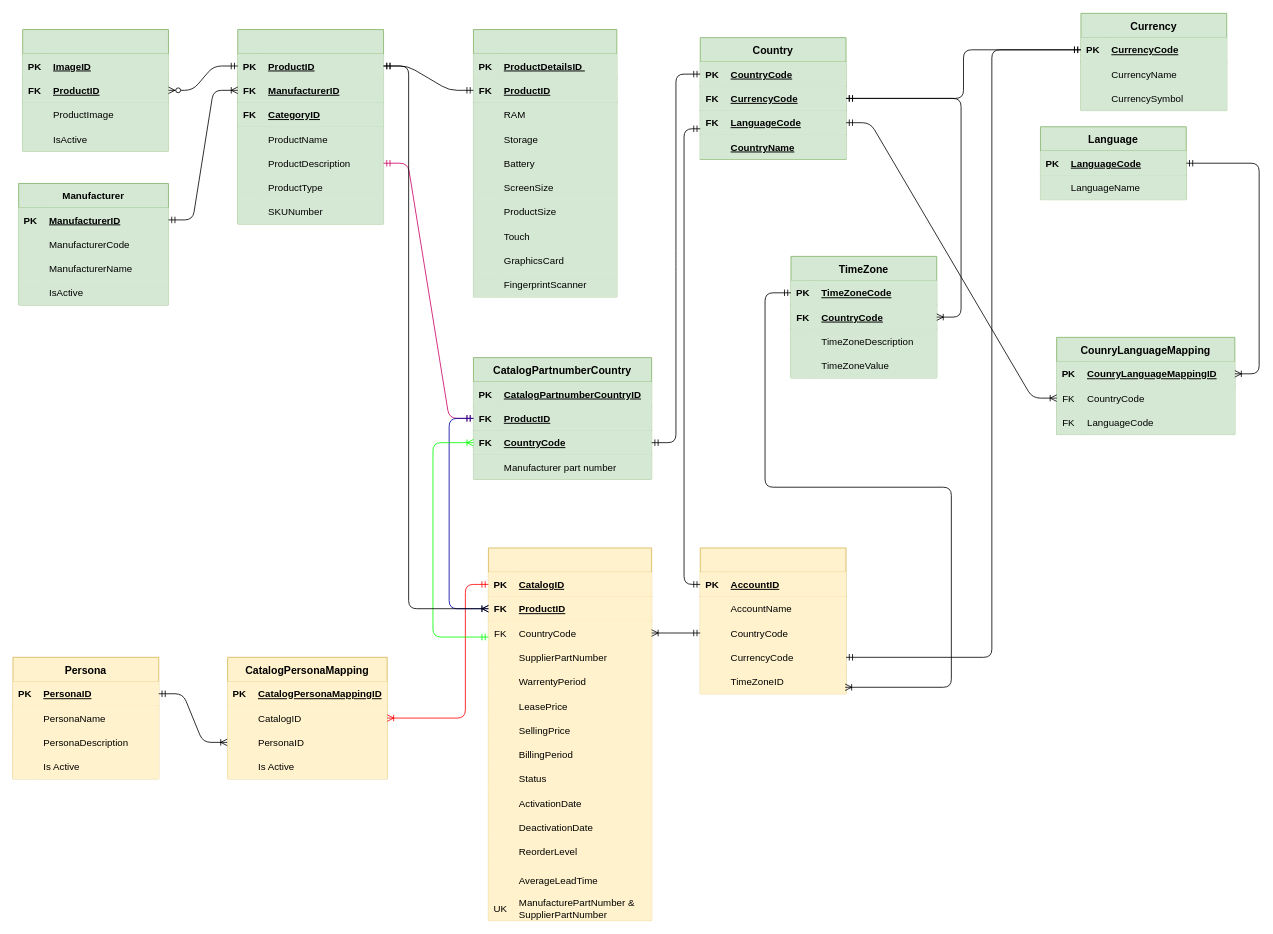
Some shapes in this 1273 by 934 pixel diagram are drawn without their labels. The box of each missing label's shape, as (x1, y1, x2, y2) in pixels:
AccountCatalog: (488, 547, 652, 921)
AccountConfiguration: (699, 547, 846, 694)
Additional Product Details: (473, 29, 617, 297)
Catalog Images: (22, 29, 168, 151)
Products Catalog: (237, 29, 384, 224)
